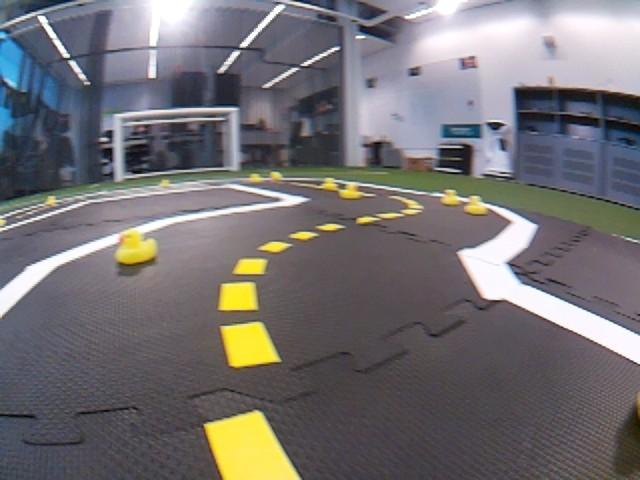Duckies: (116, 229, 159, 263), (464, 196, 489, 215), (339, 183, 360, 199), (441, 189, 459, 205), (320, 178, 339, 190), (250, 173, 264, 183), (44, 196, 56, 205), (270, 172, 282, 180), (159, 180, 171, 186), (0, 218, 6, 226)
